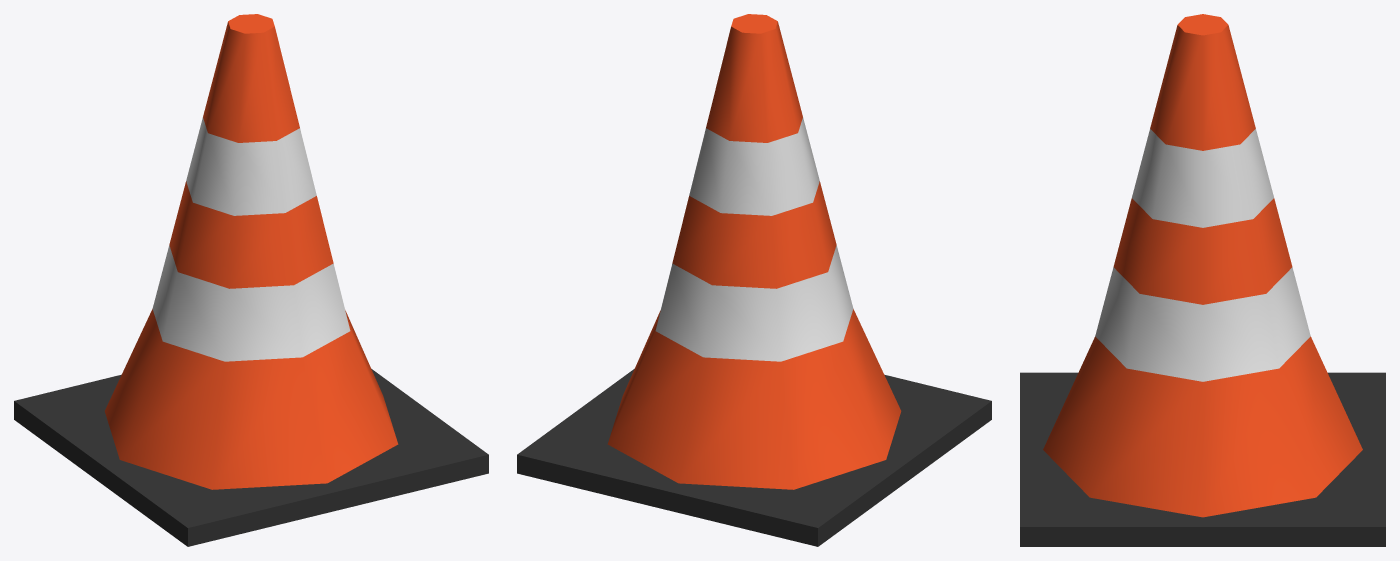
The model's file is Traffic_Cone.fbx.
The picture shows the model from 3 angles, left to right: view 1: azimuth 30°, elevation 25°; view 2: azimuth 150°, elevation 25°; view 3: azimuth 270°, elevation 25°; orthographic projection. The views are drawn at different scales.
Parts seen in each view (by area): view 1: Traffic_Cone; view 2: Traffic_Cone; view 3: Traffic_Cone.
Part boxes in pixels (<box>): Traffic_Cone: <box>14,14,488,546</box>; Traffic_Cone: <box>517,14,991,546</box>; Traffic_Cone: <box>1020,14,1385,546</box>.
Size of the model in its own units: 0.2259 by 0.3031 by 0.2259.
